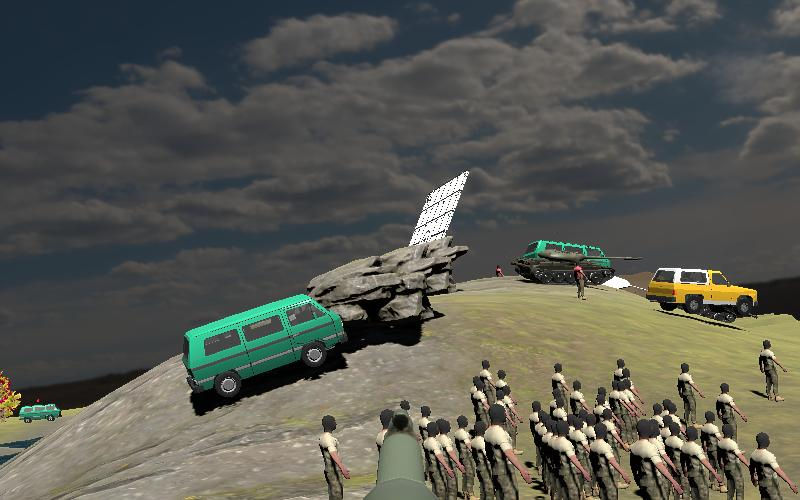Human: (746, 426, 799, 500), (746, 429, 798, 498), (316, 413, 353, 496), (757, 337, 789, 403), (571, 258, 588, 300)
Tank: (509, 249, 621, 287)
car: (183, 293, 348, 409), (645, 266, 760, 321), (19, 403, 62, 425)
